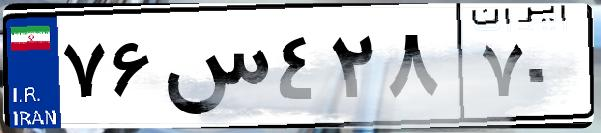0: (525, 38, 570, 115)
2: (330, 28, 385, 110)
4: (270, 28, 330, 110)
6: (110, 28, 158, 98)
7: (57, 26, 110, 100), (475, 38, 525, 113)
8: (385, 28, 445, 110)
س: (158, 20, 270, 120)
